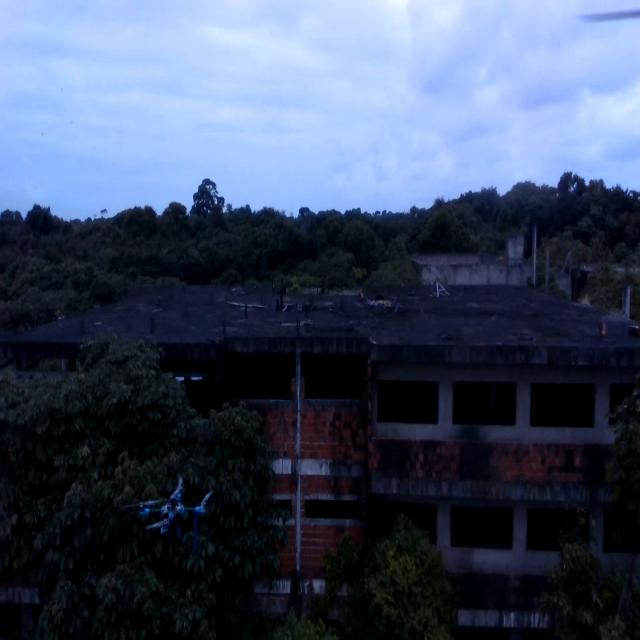-uav-: (118, 456, 222, 574)
